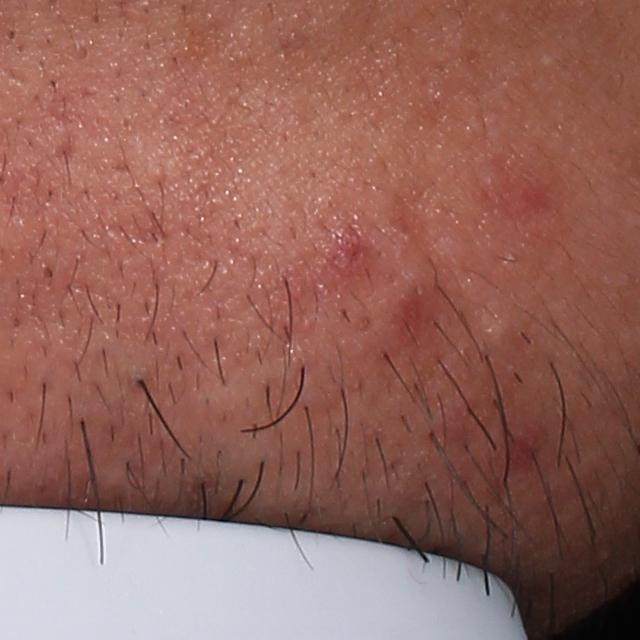atrophic_scar: (55, 136, 78, 169)
hypertrophic_scar: (472, 306, 524, 351)
papule: (314, 222, 373, 287)
